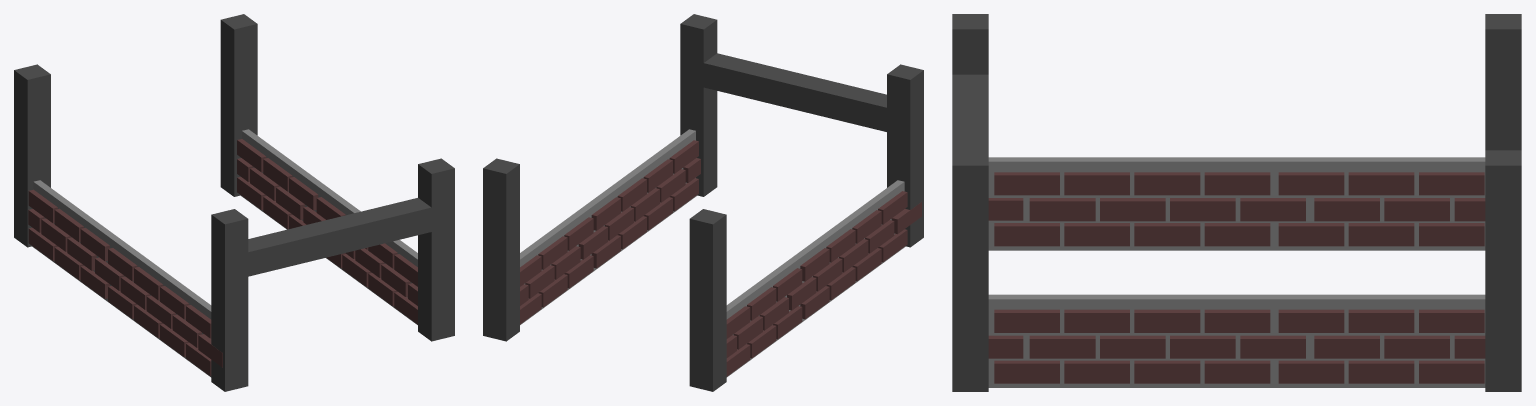
The model's file is new_building.gltf.
3 renders of one model, left to right at view 1: azimuth 30°, elevation 25°; view 2: azimuth 150°, elevation 25°; view 3: azimuth 270°, elevation 25°, orthographic. The views are drawn at different scales.
Parts seen in each view (by area): view 1: Cube.004, Cube.003, Cube, Cube.001, Cube.002, Cube.049, Cube.005, Cube.021, Cube.034, Cube.035, Cube.020, Cube.033 (+31 smaller); view 2: Cube.004, Cube.002, Cube.001, Cube, Cube.003, Cube.049, Cube.005, Cube.015, Cube.040, Cube.014, Cube.041, Cube.033 (+36 smaller); view 3: Cube.005, Cube.049, Cube, Cube.001, Cube.002, Cube.004, Cube.003, Cube.007, Cube.016, Cube.018, Cube.037, Cube.039 (+39 smaller).
Boxes of the visible parts, x1,y1,x2,y2 form: Cube.004: [227, 198, 448, 281]; Cube.003: [211, 209, 248, 391]; Cube: [418, 158, 454, 341]; Cube.001: [220, 14, 257, 196]; Cube.002: [14, 64, 50, 247]; Cube.049: [32, 180, 211, 377]; Cube.005: [241, 129, 417, 324]; Cube.021: [289, 177, 318, 210]; Cube.034: [80, 227, 109, 261]; Cube.035: [67, 237, 96, 270]; Cube.020: [276, 186, 305, 219]; Cube.033: [54, 208, 83, 242]; Cube.004: [686, 53, 907, 136]; Cube.002: [689, 209, 726, 391]; Cube.001: [483, 158, 519, 341]; Cube: [680, 14, 717, 196]; Cube.003: [887, 64, 923, 247]; Cube.049: [726, 180, 905, 377]; Cube.005: [520, 129, 696, 324]; Cube.015: [591, 197, 620, 230]; Cube.040: [800, 248, 829, 281]; Cube.014: [578, 226, 607, 259]; Cube.041: [787, 277, 816, 310]; Cube.033: [747, 287, 776, 320]; Cube.005: [988, 294, 1485, 387]; Cube.049: [988, 157, 1485, 250]; Cube: [952, 150, 988, 391]; Cube.001: [1485, 150, 1521, 391]; Cube.002: [1485, 14, 1521, 150]; Cube.004: [952, 74, 988, 150]; Cube.003: [952, 14, 988, 74]; Cube.007: [1029, 335, 1095, 358]; Cube.016: [1134, 309, 1200, 332]; Cube.018: [1134, 360, 1200, 383]; Cube.037: [1134, 223, 1200, 246]; Cube.039: [1134, 172, 1200, 195].
Bounding box in the file's own units: 3.84 × 2.69 × 6.09.
